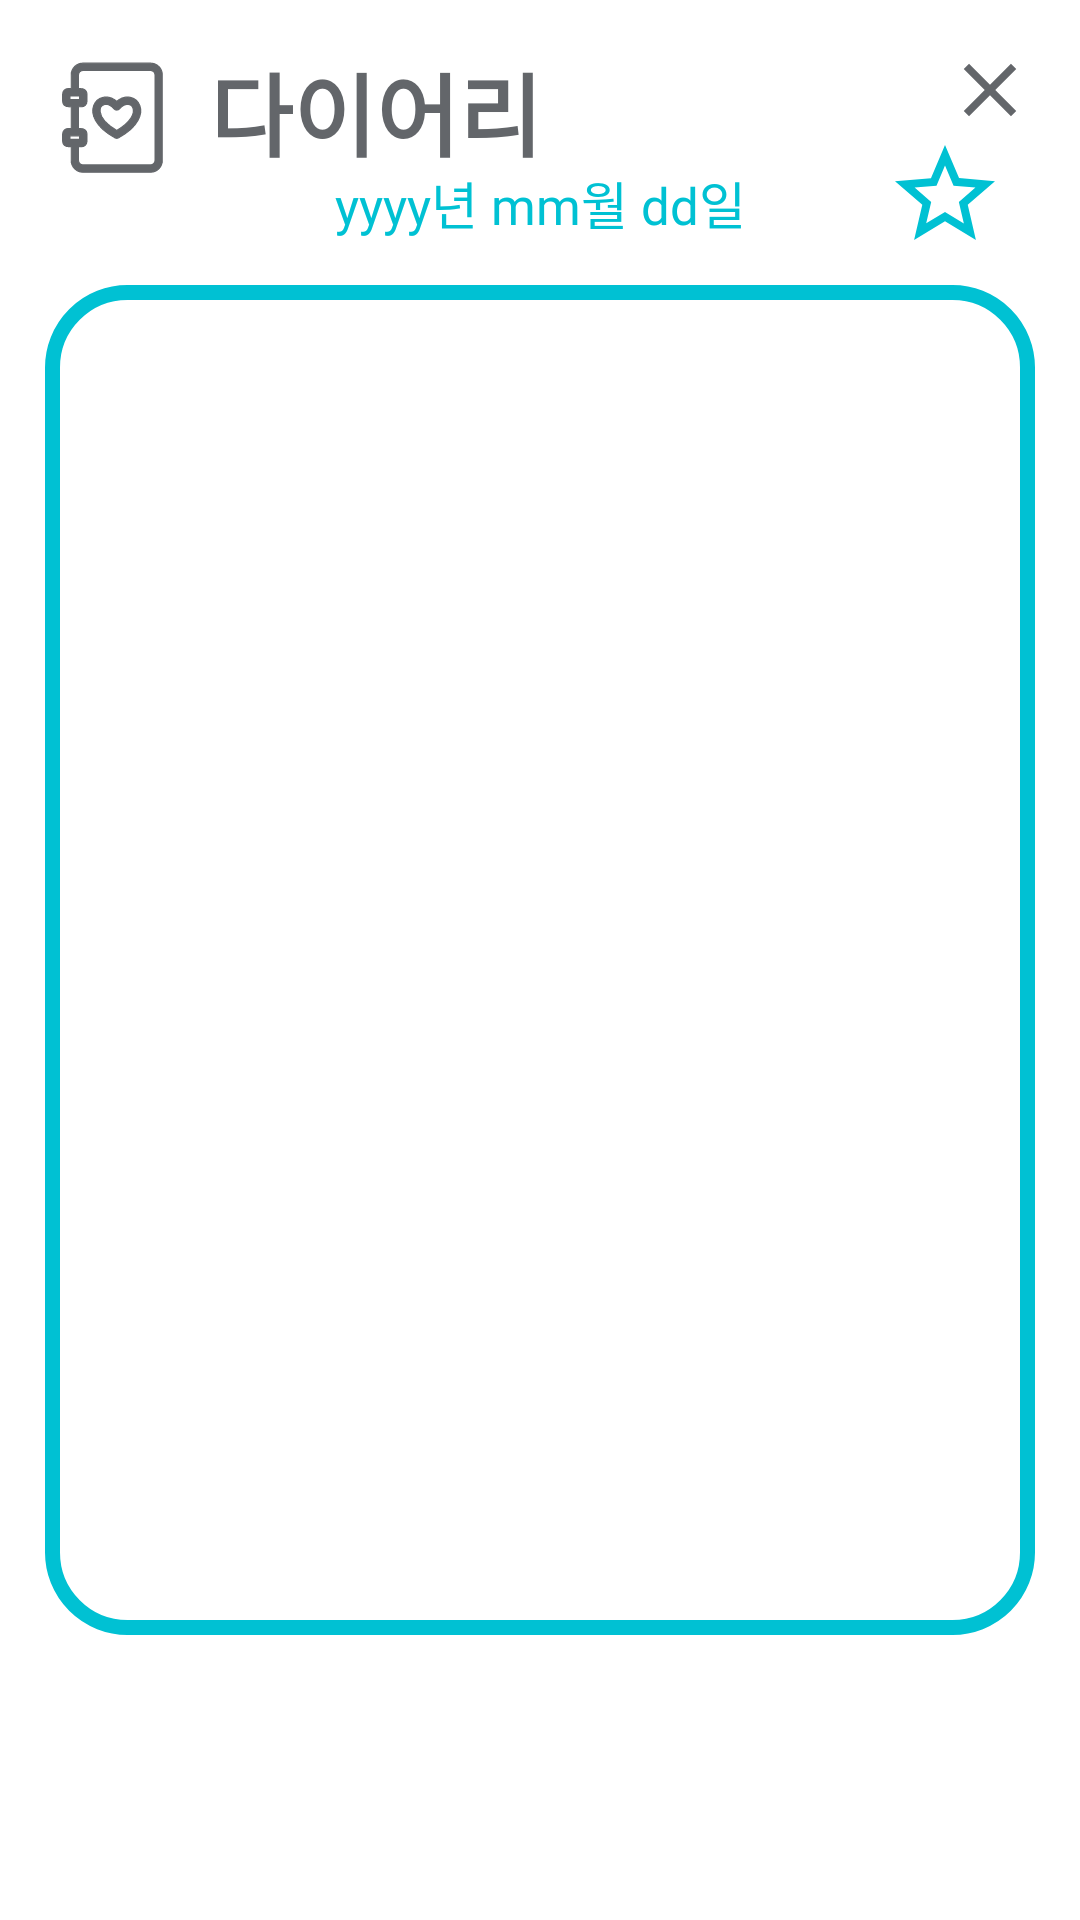

Point at icon controls on the screen. Image size 1080×1920, points as (x=x, y=y).
close: (x=990, y=90)
diary: (x=112, y=117)
star: (x=945, y=192)
